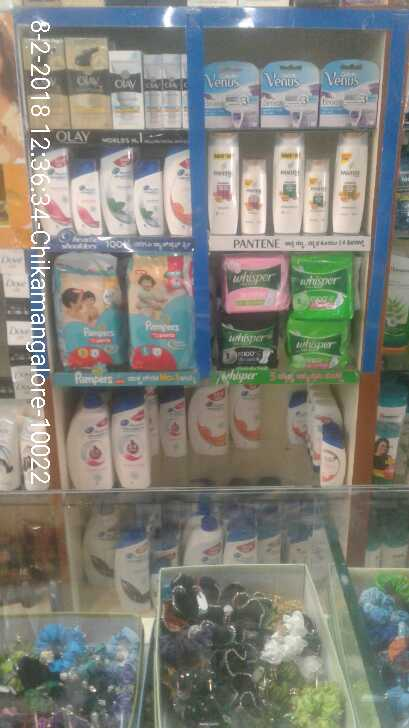venus: (320, 57, 379, 124), (206, 64, 263, 124), (263, 64, 319, 124)
